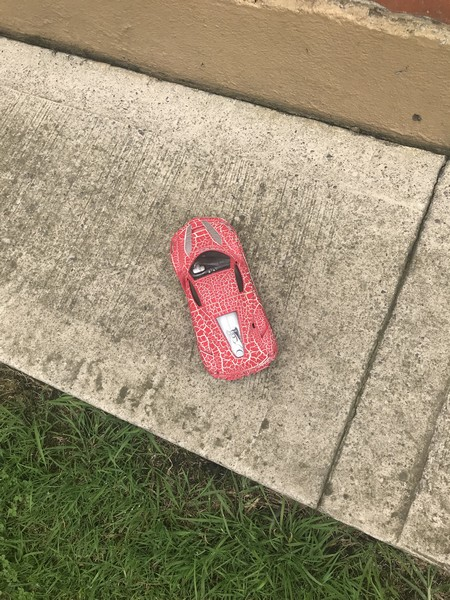RC: (169, 216, 277, 382)
